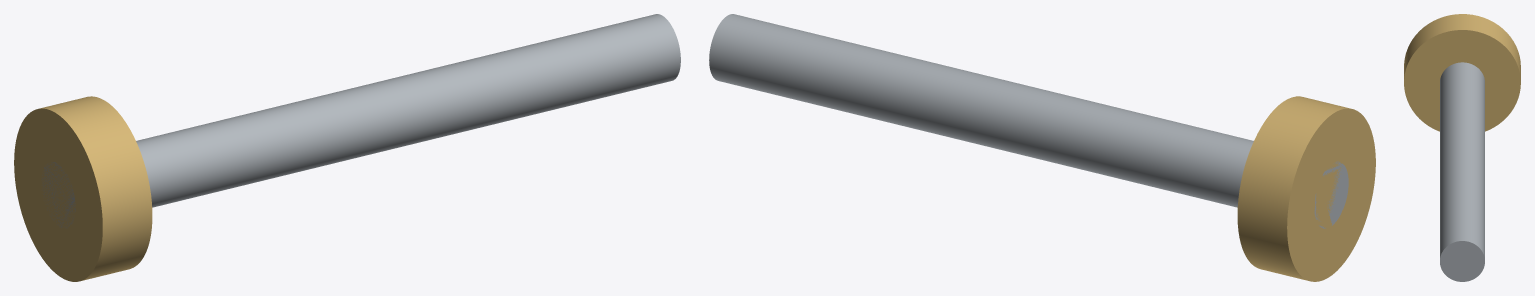
The model's file is step_05.glb.
3 views of the same model, side by side, from view 1: azimuth 30°, elevation 25°; view 2: azimuth 150°, elevation 25°; view 3: azimuth 270°, elevation 25° (orthographic). The views are drawn at different scales.
Parts seen in each view (by area): view 1: part__piston rod, part__piston; view 2: part__piston rod, part__piston; view 3: part__piston rod, part__piston.
Boxes of the visible parts, box(x1,y1,x2,y2) form: part__piston rod: box(42, 14, 680, 228); part__piston: box(14, 96, 152, 281); part__piston rod: box(709, 14, 1348, 228); part__piston: box(1237, 96, 1375, 281); part__piston rod: box(1440, 62, 1484, 281); part__piston: box(1404, 14, 1520, 131).
Size of the model in its own units: 122 by 30.99 by 30.98.
